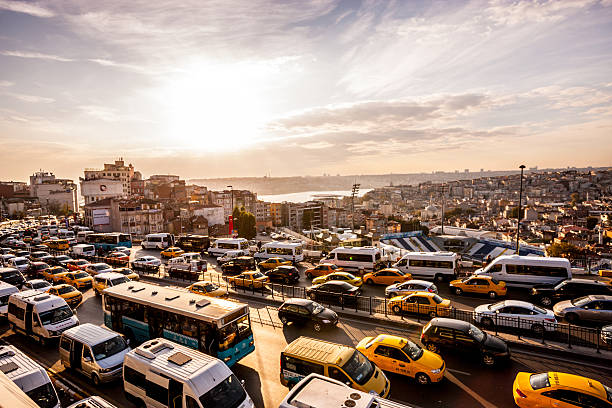bus: (477, 255, 569, 292), (398, 252, 459, 283), (322, 246, 380, 272), (253, 242, 304, 264), (89, 235, 132, 252), (210, 240, 248, 256), (142, 234, 172, 249)
car: (124, 342, 243, 408), (283, 337, 379, 395), (424, 319, 502, 363), (1, 350, 62, 405), (63, 327, 127, 377), (8, 293, 74, 340), (364, 336, 436, 375), (474, 299, 556, 331), (533, 279, 611, 308), (278, 298, 333, 330), (557, 294, 611, 326), (449, 275, 504, 299), (391, 294, 452, 314), (307, 280, 360, 303), (385, 280, 436, 300), (364, 266, 410, 287), (230, 272, 266, 290), (49, 285, 80, 304), (305, 262, 341, 277), (267, 267, 299, 283), (220, 258, 252, 274), (1, 267, 24, 289), (63, 272, 93, 287), (260, 258, 290, 271), (103, 251, 130, 265), (44, 265, 65, 283), (134, 258, 161, 271), (71, 244, 95, 257), (8, 257, 29, 271), (87, 263, 109, 275), (160, 247, 183, 258), (68, 258, 87, 271), (48, 239, 70, 250), (41, 232, 51, 240), (23, 236, 33, 243)
